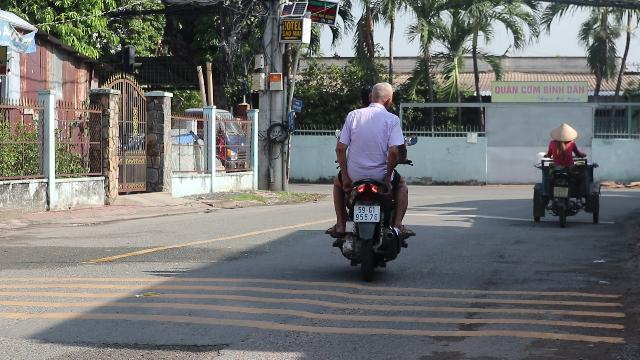licenseplate: (354, 205, 380, 221)
motorcyclist: (323, 80, 415, 276)
nohelmet: (370, 82, 394, 110)
